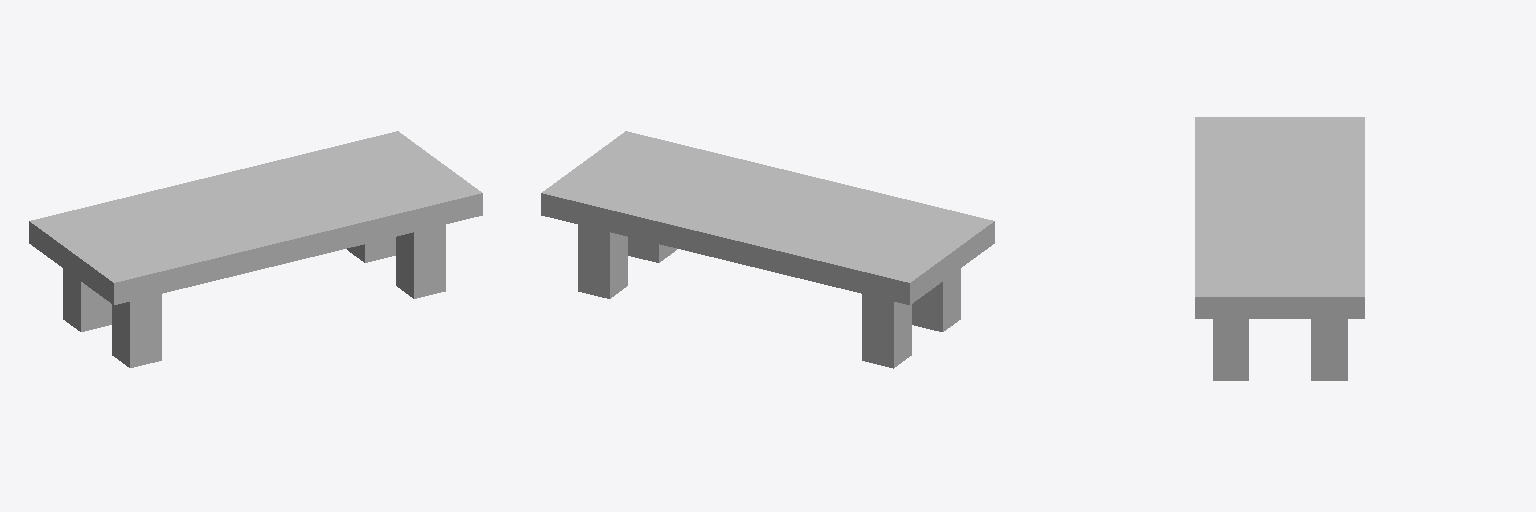
Rendered from living_room_table.obj.
3 views of the same model, side by side, from view 1: azimuth 30°, elevation 25°; view 2: azimuth 150°, elevation 25°; view 3: azimuth 270°, elevation 25° (orthographic).
Parts seen in each view (by area): view 1: Cube_Cube.001; view 2: Cube_Cube.001; view 3: Cube_Cube.001.
Boxes of the visible parts, x1,y1,x2,y2 form: Cube_Cube.001: [29, 131, 482, 367]; Cube_Cube.001: [541, 131, 994, 368]; Cube_Cube.001: [1195, 117, 1364, 380].
Size of the model in its own units: 5.03 by 1.27 by 2.